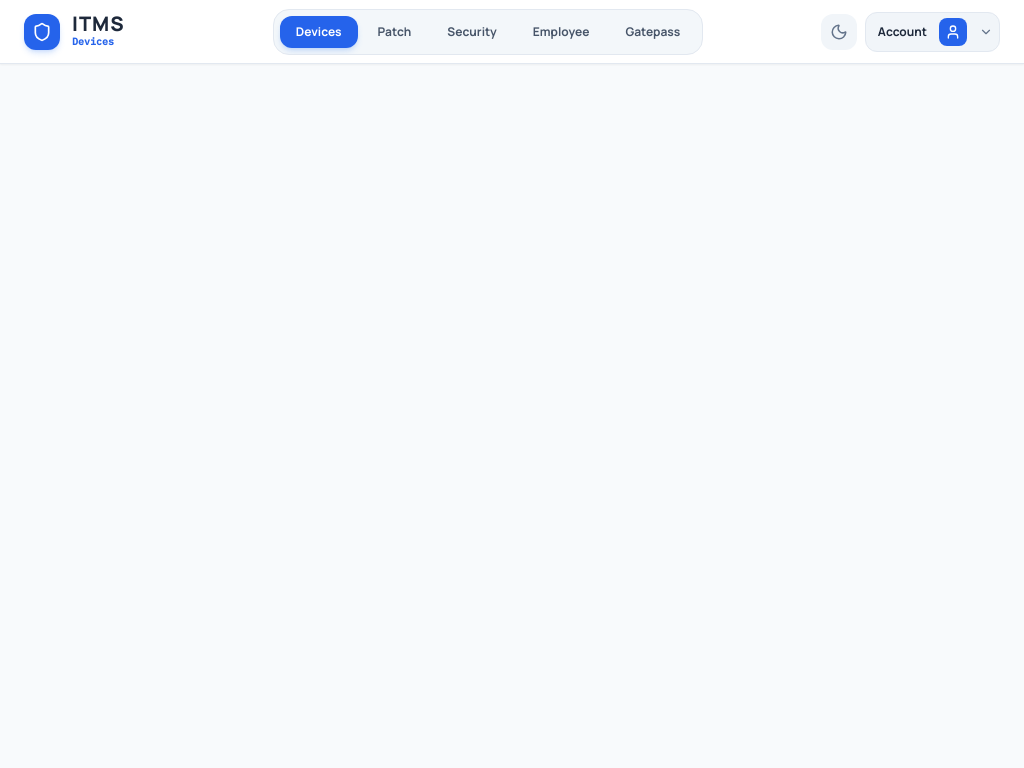
Test case: AppHeader account controls › uses neutral Account, preserves real profile/settings, and immediately clears on logout
Click the button "Account".
click(932, 32)  # box [865, 12, 1000, 52]
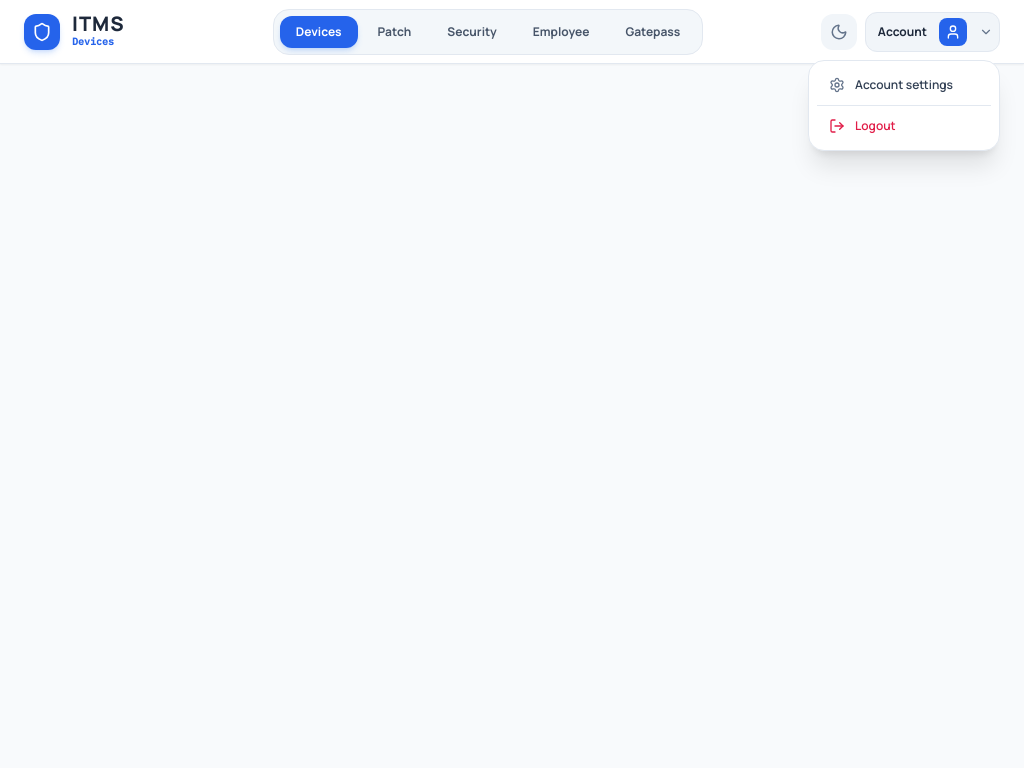
Click the button "Account settings".
click(904, 84)  # box [817, 68, 991, 100]
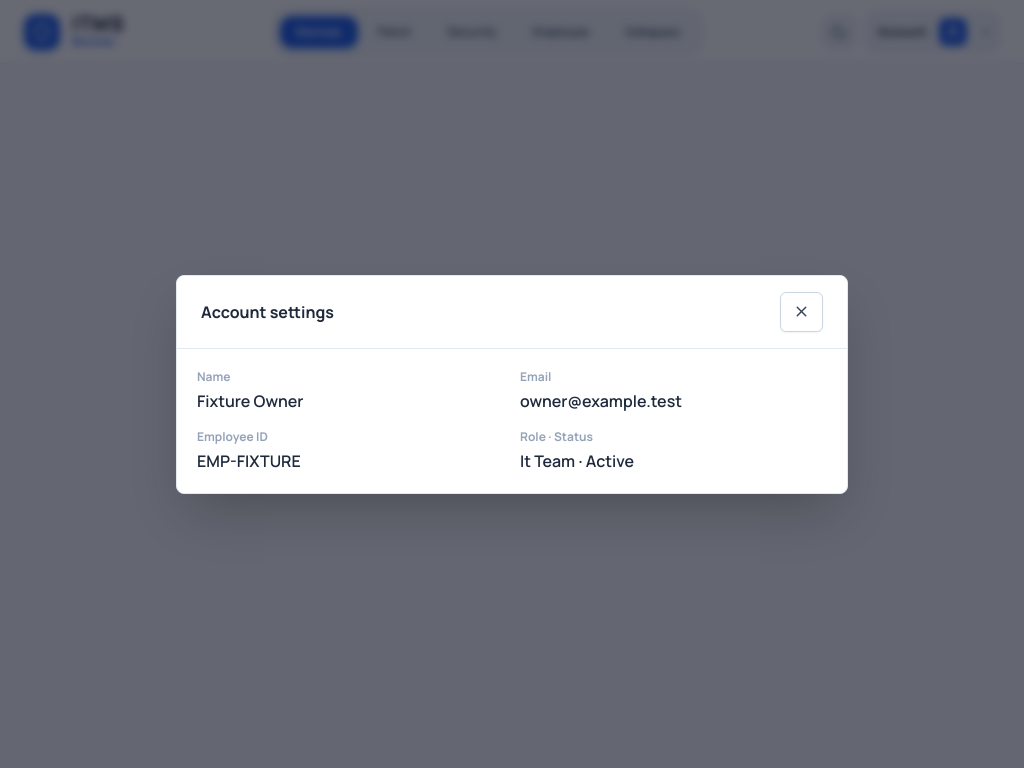
Check: the button "Account" is shown, box [865, 12, 1000, 52]
Check: the text "owner@example.test" is shown, box [520, 390, 682, 412]
Click the button named "Close dialog".
click(802, 312)  # box [780, 292, 823, 332]
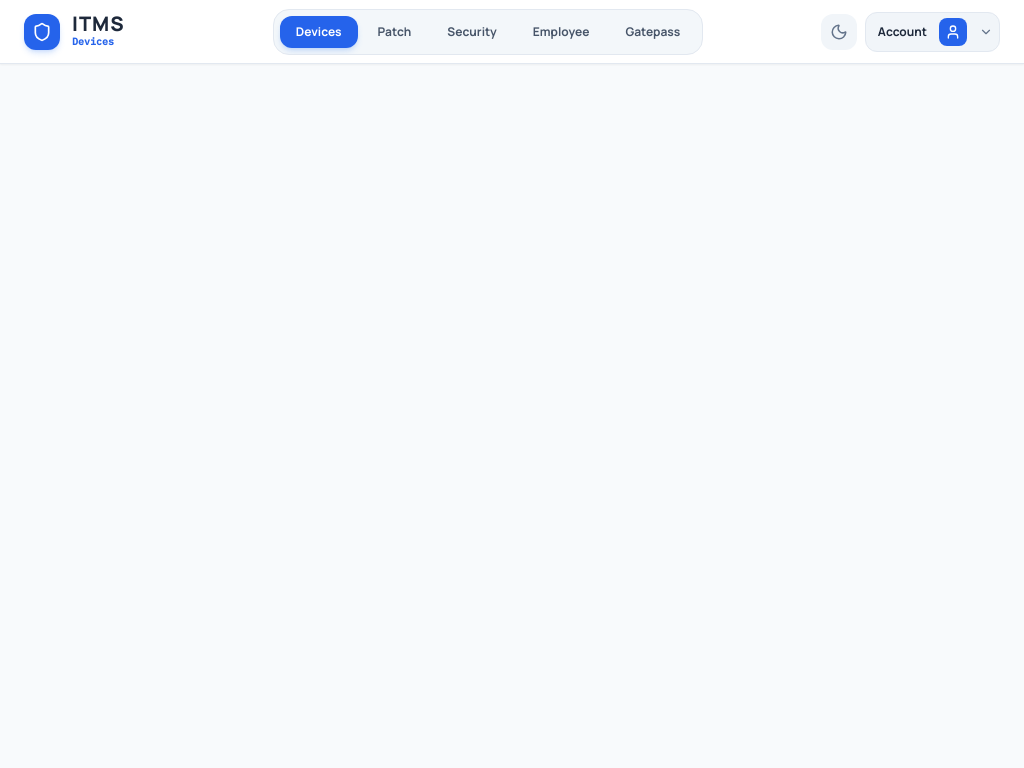
Click the button "Account".
click(932, 32)  # box [865, 12, 1000, 52]
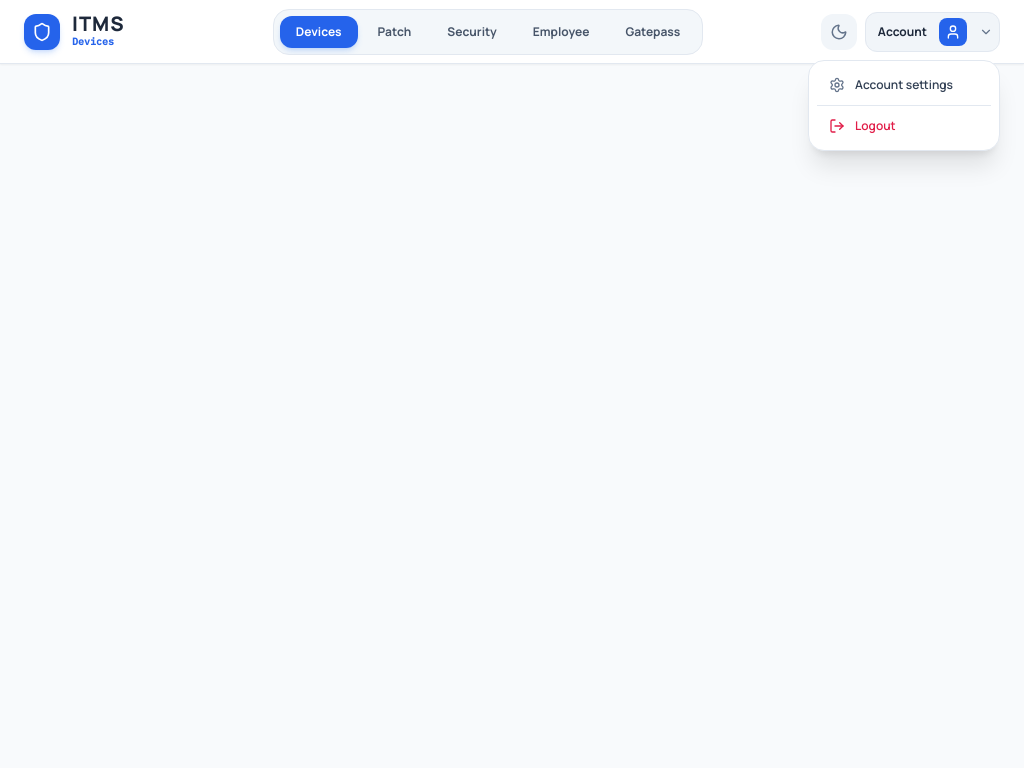
Click the button "Logout".
click(904, 126)  # box [817, 110, 991, 142]
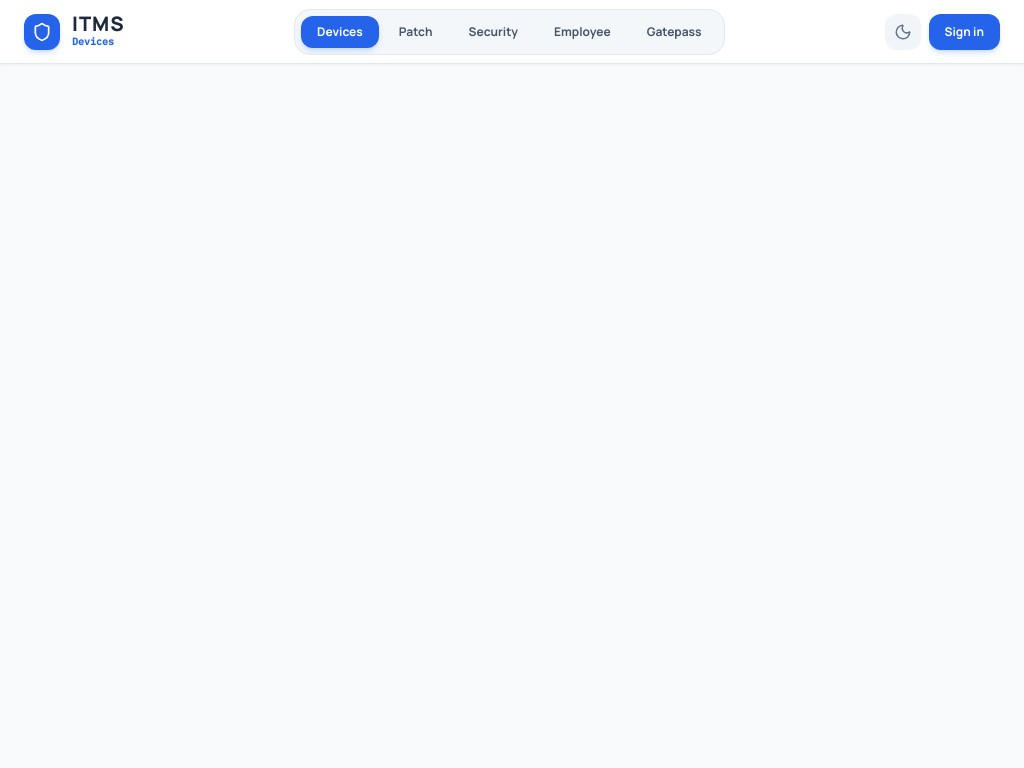
Check: the text "Fixture Owner" is not shown
Check: the button "Sign in" is shown, box [929, 14, 1000, 50]
